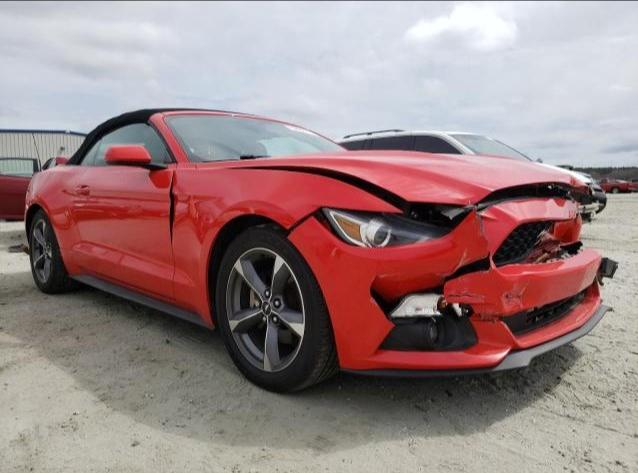Broken part: (280, 178, 622, 375), (217, 162, 472, 228), (493, 221, 564, 267), (390, 293, 470, 319), (168, 166, 178, 248)
Dent: (172, 193, 226, 243), (501, 279, 531, 314), (569, 177, 580, 186)
Paint chip: (438, 253, 467, 276), (370, 296, 383, 309), (478, 216, 486, 234)
Scratch: (435, 248, 467, 277), (502, 280, 529, 312), (479, 211, 490, 257), (370, 296, 382, 309), (576, 309, 589, 320), (459, 277, 467, 294), (446, 294, 486, 296), (329, 247, 337, 255), (331, 246, 338, 255)
